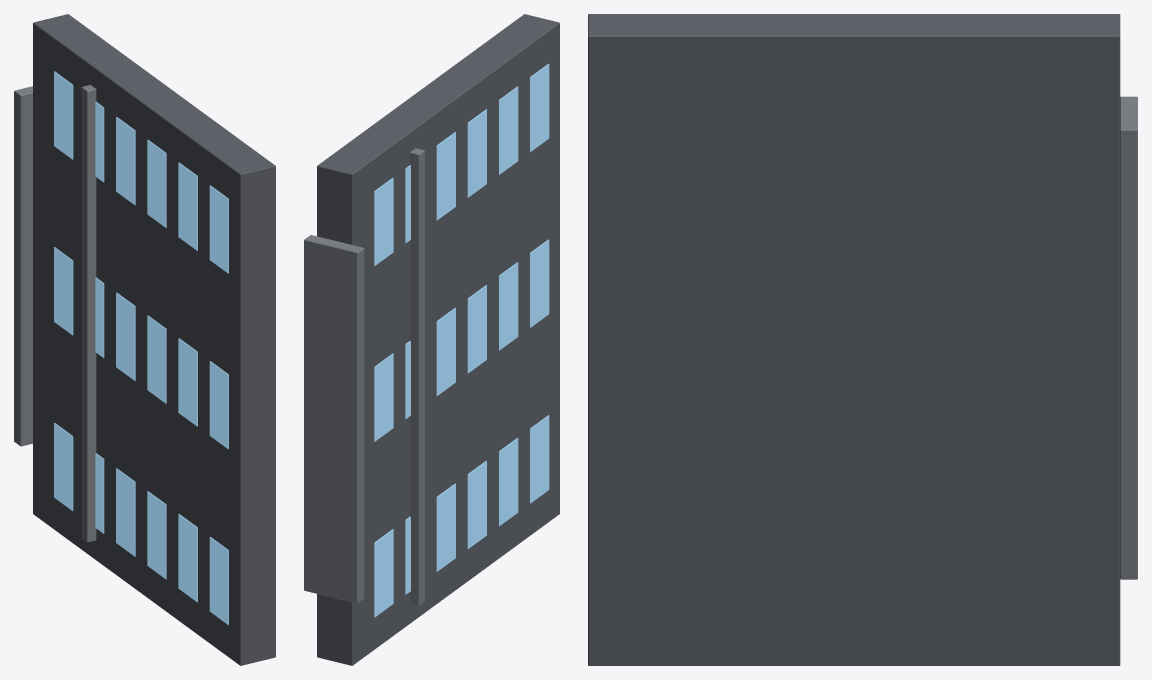
Rendered from far_facade_shell_yard_r.glb.
3 renders of one model, left to right at view 1: azimuth 30°, elevation 25°; view 2: azimuth 150°, elevation 25°; view 3: azimuth 270°, elevation 25°, orthographic. The views are drawn at different scales.
Parts seen in each view (by area): view 1: FlightKit_FarFacadeShell_yard_R; view 2: FlightKit_FarFacadeShell_yard_R; view 3: FlightKit_FarFacadeShell_yard_R.
Part boxes in pixels (x1=…): FlightKit_FarFacadeShell_yard_R: x1=14, y1=14, x2=275, y2=665; FlightKit_FarFacadeShell_yard_R: x1=304, y1=14, x2=559, y2=665; FlightKit_FarFacadeShell_yard_R: x1=588, y1=14, x2=1137, y2=665.
Size of the model in its own units: 1.8 by 15.68 by 12.4.
